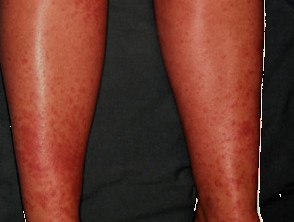SJS-TEN: (146, 0, 272, 222), (0, 0, 115, 222)
